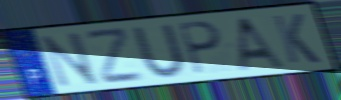A: (235, 15, 288, 73)
K: (270, 12, 323, 65)
N: (38, 30, 102, 89)
P: (175, 19, 224, 77)
U: (129, 22, 191, 79)
Z: (84, 25, 146, 86)
